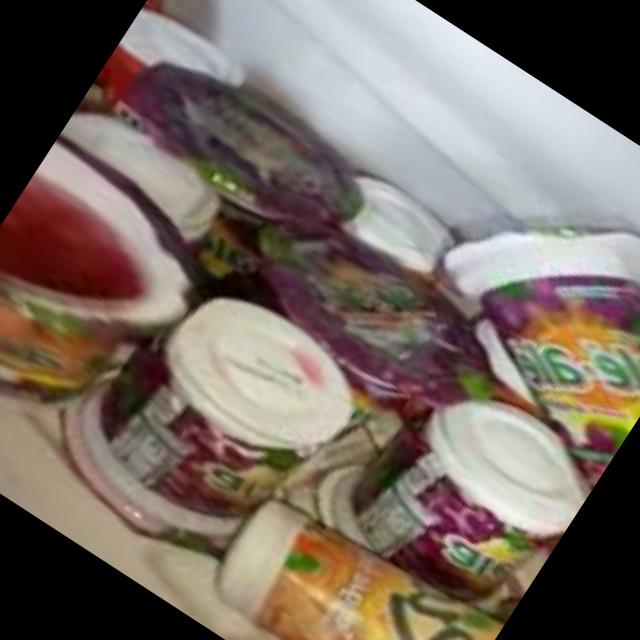GelasPlastik: (34, 244, 378, 586), (287, 327, 611, 640), (391, 149, 640, 479), (0, 127, 229, 457), (198, 459, 514, 640)
